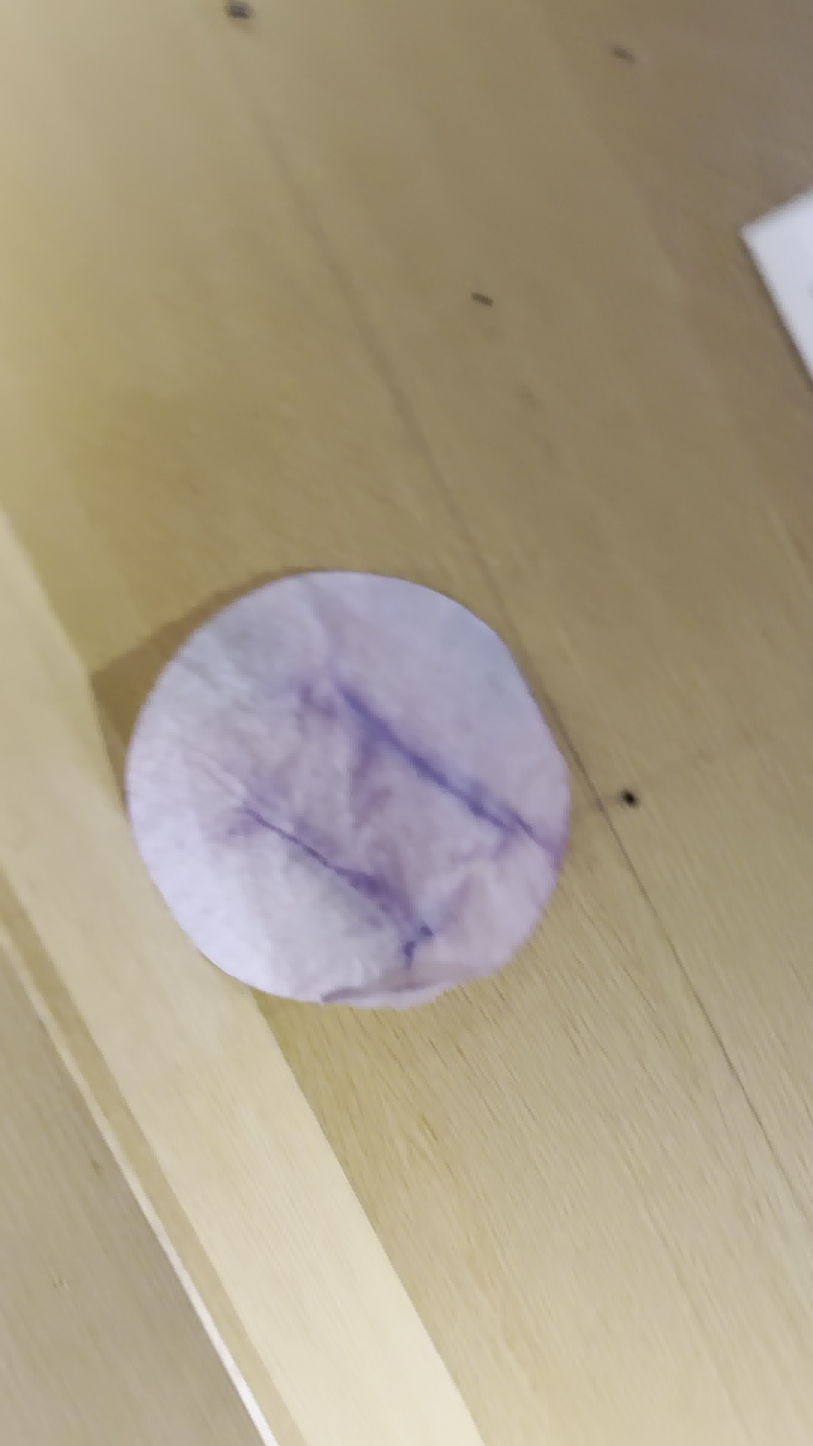Target: (128, 570, 571, 1008)
